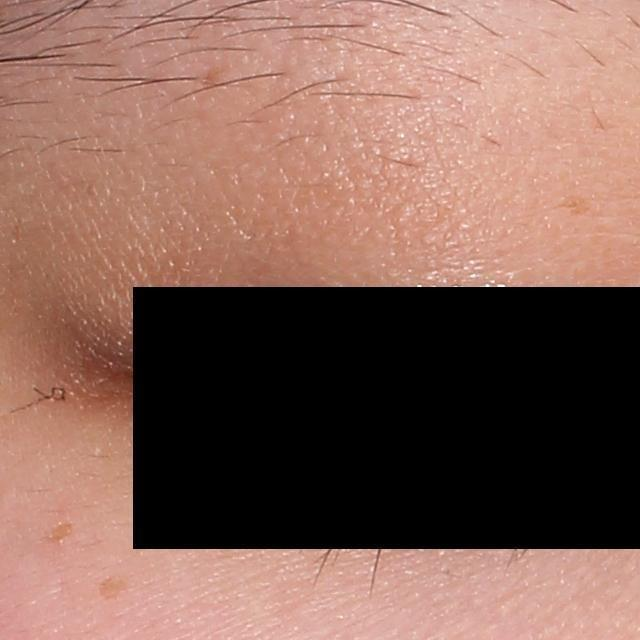melasma: (34, 521, 76, 551), (91, 575, 138, 601)
